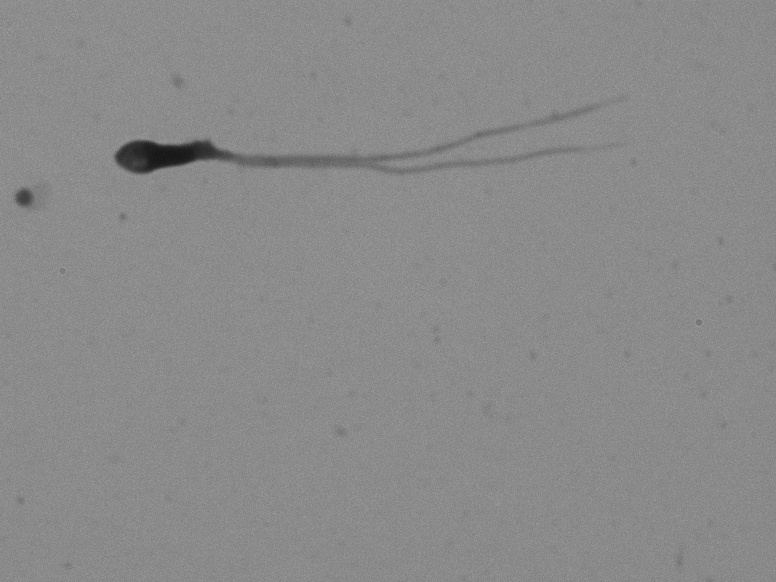Abnormal: (90, 92, 677, 203)
